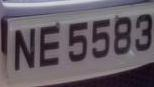3: (133, 9, 154, 58)
5: (65, 16, 90, 69), (89, 14, 112, 64)
8: (111, 11, 134, 61)
E: (36, 19, 63, 75)
N: (13, 21, 38, 78)
